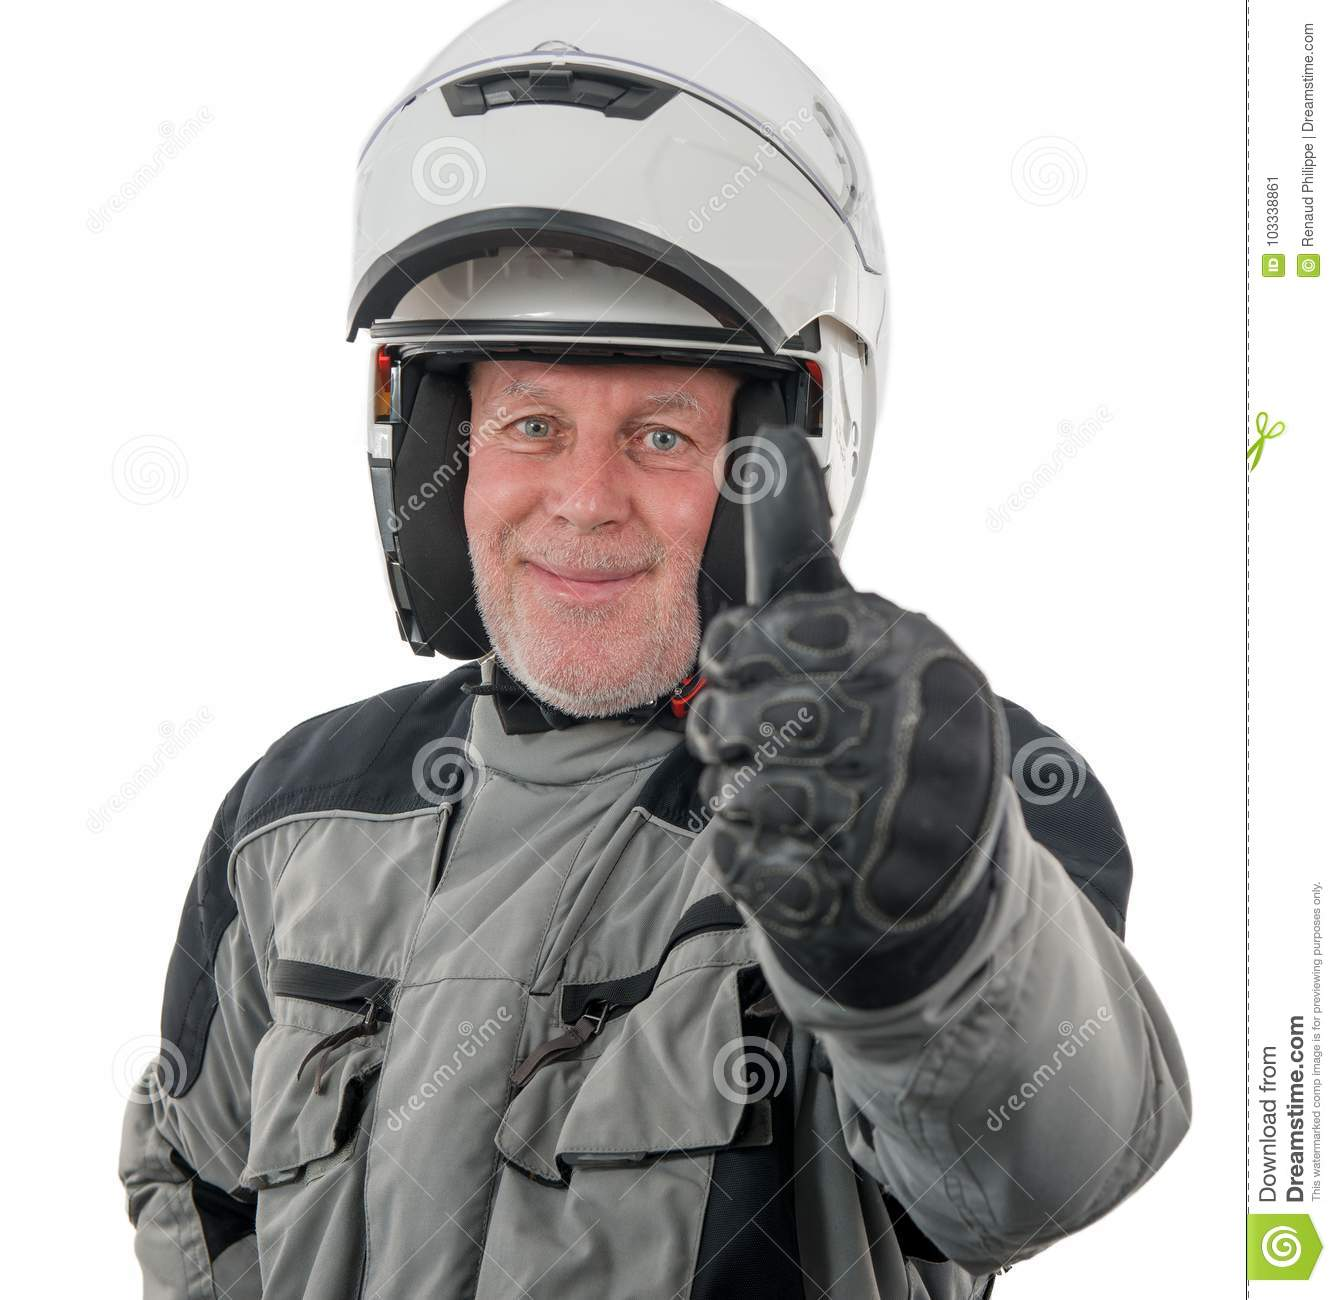helmet: (334, 58, 910, 557)
